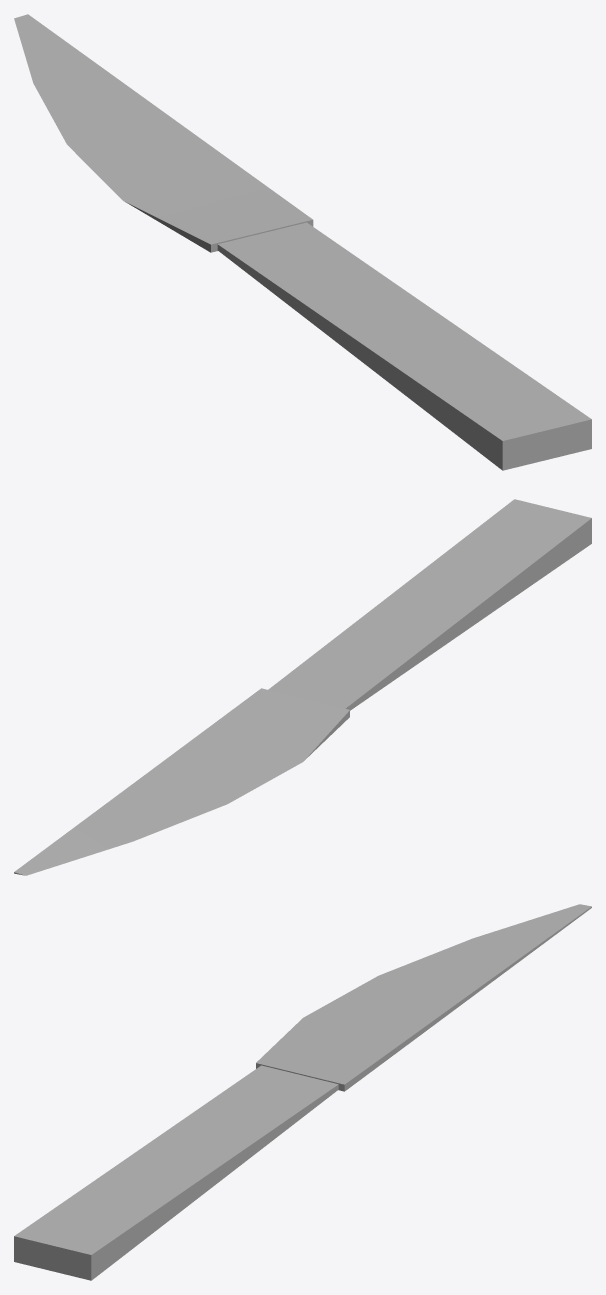
Rendered from Itr_Obj_Knife_02.FBX.
3 views of the same model, one above another, from view 1: azimuth 30°, elevation 25°; view 2: azimuth 150°, elevation 25°; view 3: azimuth 330°, elevation 25° (orthographic). The views are drawn at different scales.
Parts seen in each view (by area): view 1: Itr_Obj_Knife_02; view 2: Itr_Obj_Knife_02; view 3: Itr_Obj_Knife_02.
Boxes of the visible parts, box(x1,y1,x2,y2) form: Itr_Obj_Knife_02: box(14, 14, 591, 470); Itr_Obj_Knife_02: box(14, 499, 591, 875); Itr_Obj_Knife_02: box(14, 904, 591, 1280).
Bounding box in the file's own units: 0.5827 × 0.1387 × 4.84.
